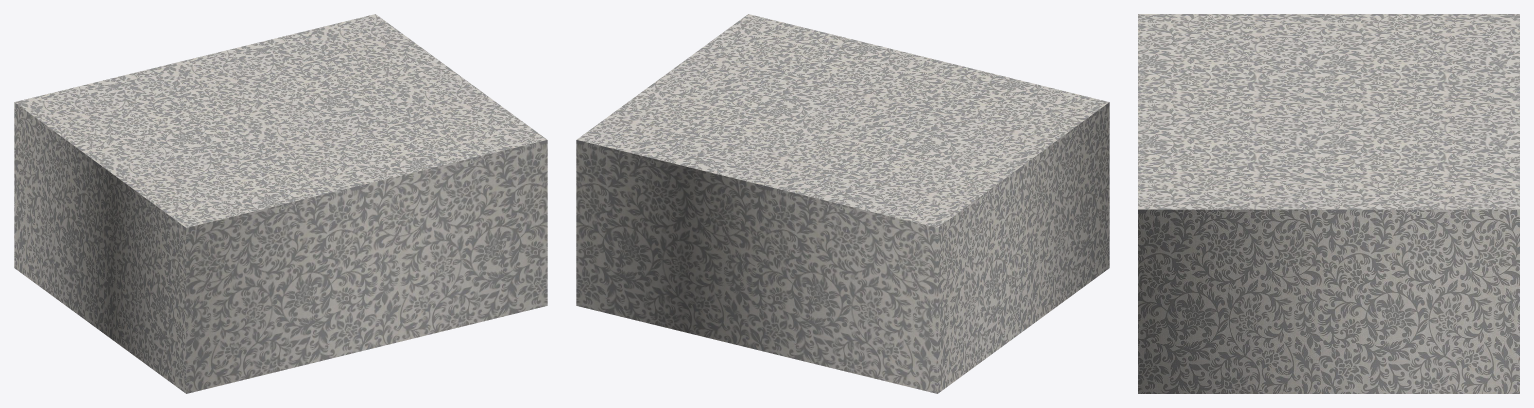
Rendered from majiang_fj.FBX.
3 renders of one model, left to right at view 1: azimuth 30°, elevation 25°; view 2: azimuth 150°, elevation 25°; view 3: azimuth 270°, elevation 25°, orthographic. The views are drawn at different scales.
Visible parts, largest first — view 1: qm_01; view 2: qm_01; view 3: qm_01.
Boxes of the visible parts, bbox=[...] form: qm_01: bbox=[14, 14, 547, 393]; qm_01: bbox=[576, 14, 1109, 393]; qm_01: bbox=[1138, 14, 1519, 393].
Bounding box in the file's own units: 4650 × 2042 × 3834.
